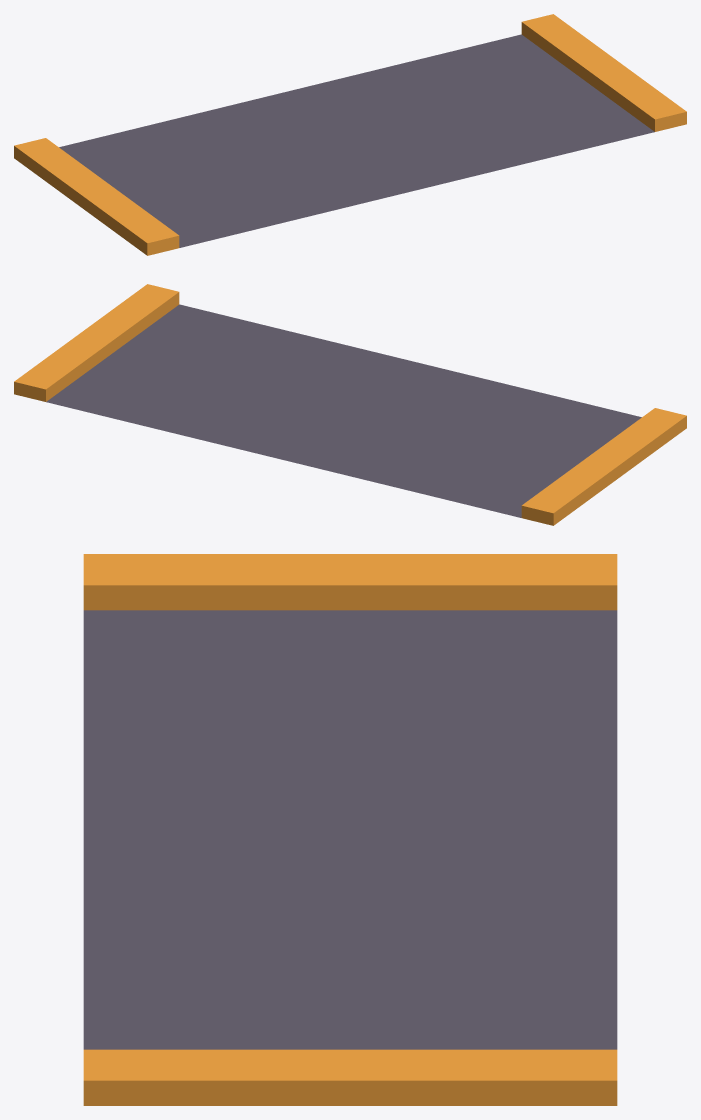
Rendered from Entry_Plane.fbx.
3 renders of one model, top to bottom at view 1: azimuth 30°, elevation 25°; view 2: azimuth 150°, elevation 25°; view 3: azimuth 270°, elevation 25°, orthographic. The views are drawn at different scales.
Parts seen in each view (by area): view 1: Entry_Plane; view 2: Entry_Plane; view 3: Entry_Plane.
Boxes of the visible parts, x1=… form: Entry_Plane: x1=14, y1=14, x2=686, y2=255; Entry_Plane: x1=14, y1=284, x2=686, y2=525; Entry_Plane: x1=83, y1=554, x2=617, y2=1105.
Size of the model in its own units: 420 by 9.36 by 180.
